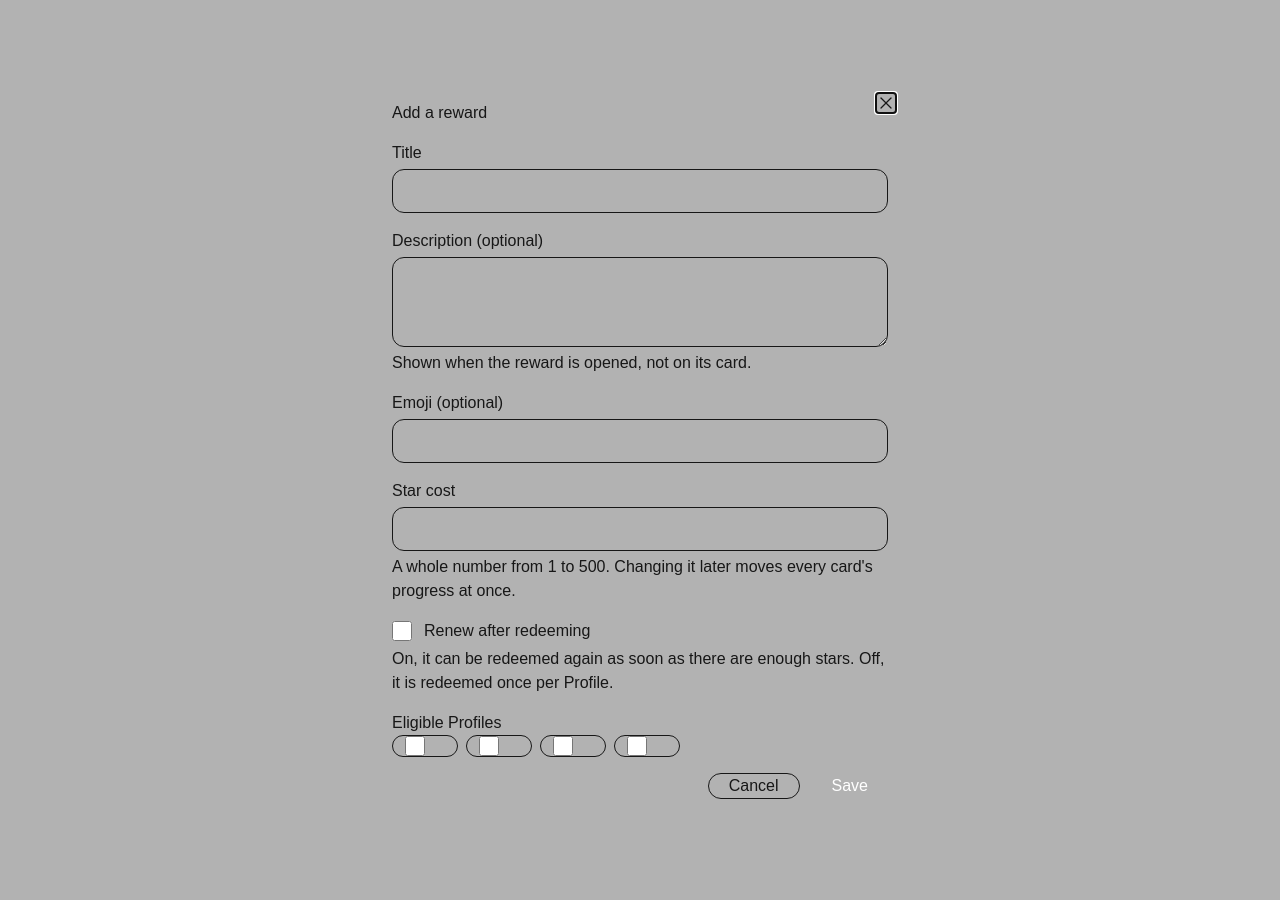
Test: RewardForm › refusals land against their field and keep the rest (FR-415, FR-416) › refuses a reward with no eligible Profile, on the picker itself (FR-415)
Step 1. Type "Bake cookies" into the field labelled "Title" → (640, 191), box [392,169,888,213]
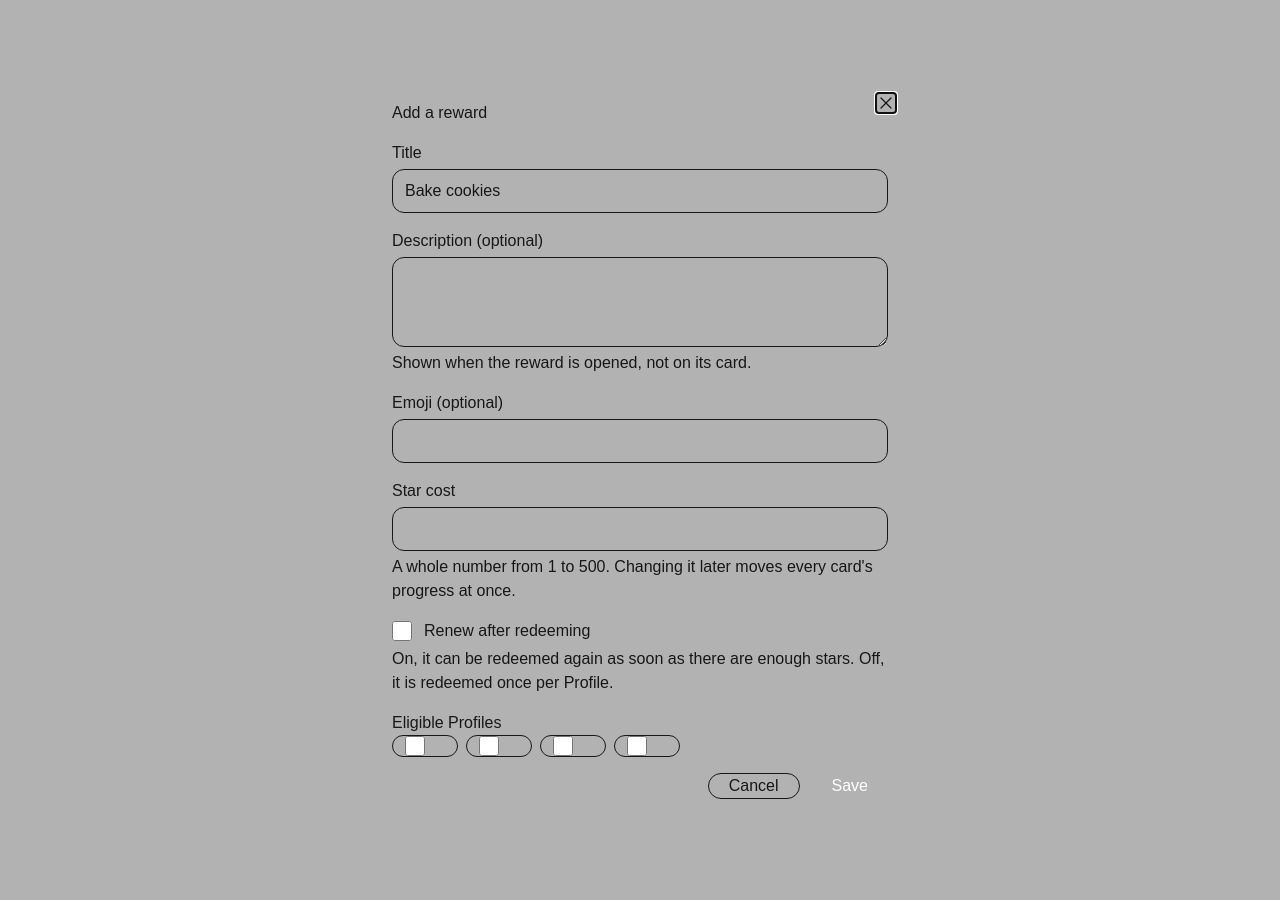
Step 2. Type "20" into the number field labelled "Star cost" → (640, 529), box [392,507,888,551]
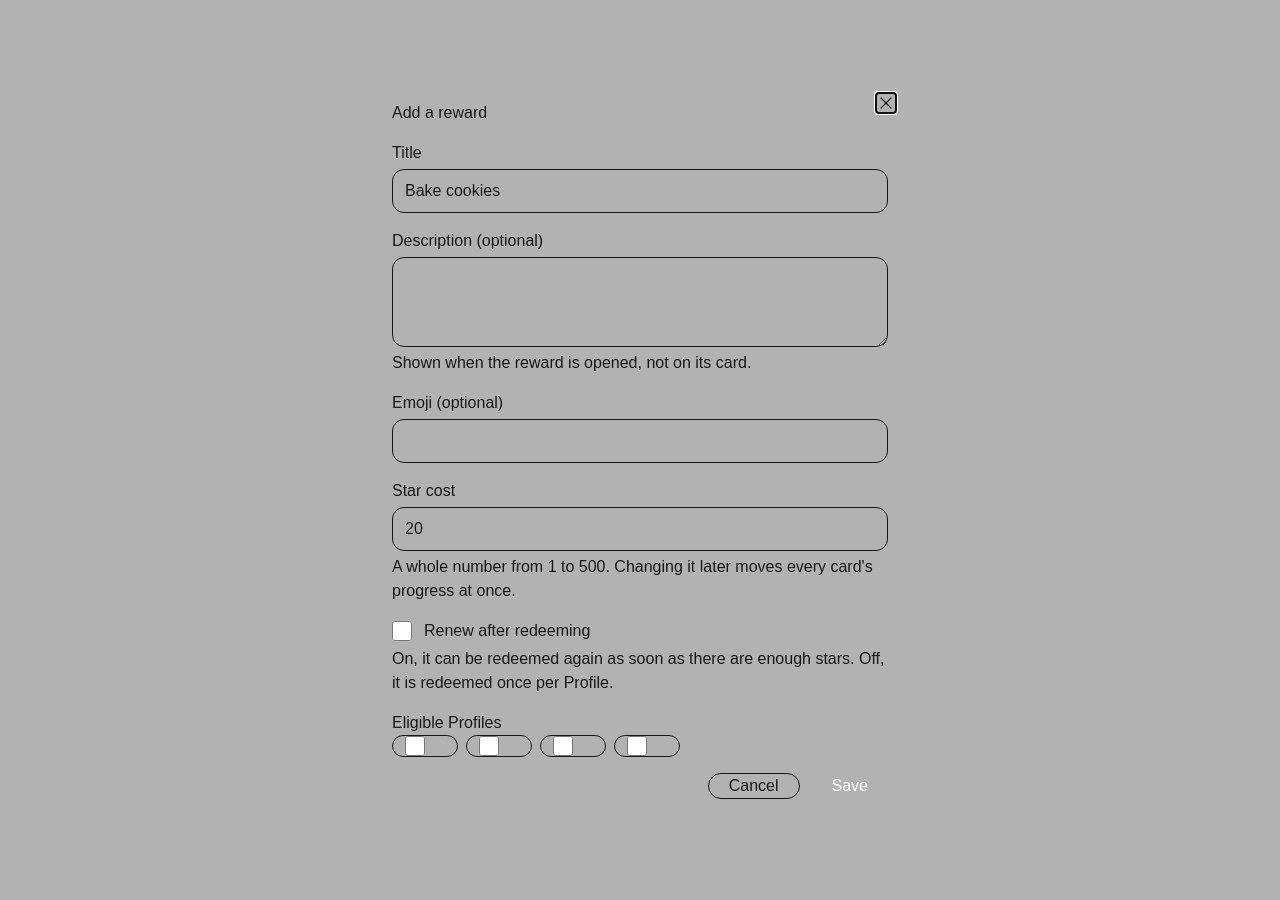
Step 3. Click the button "Save" → (850, 786), box [812,773,888,799]
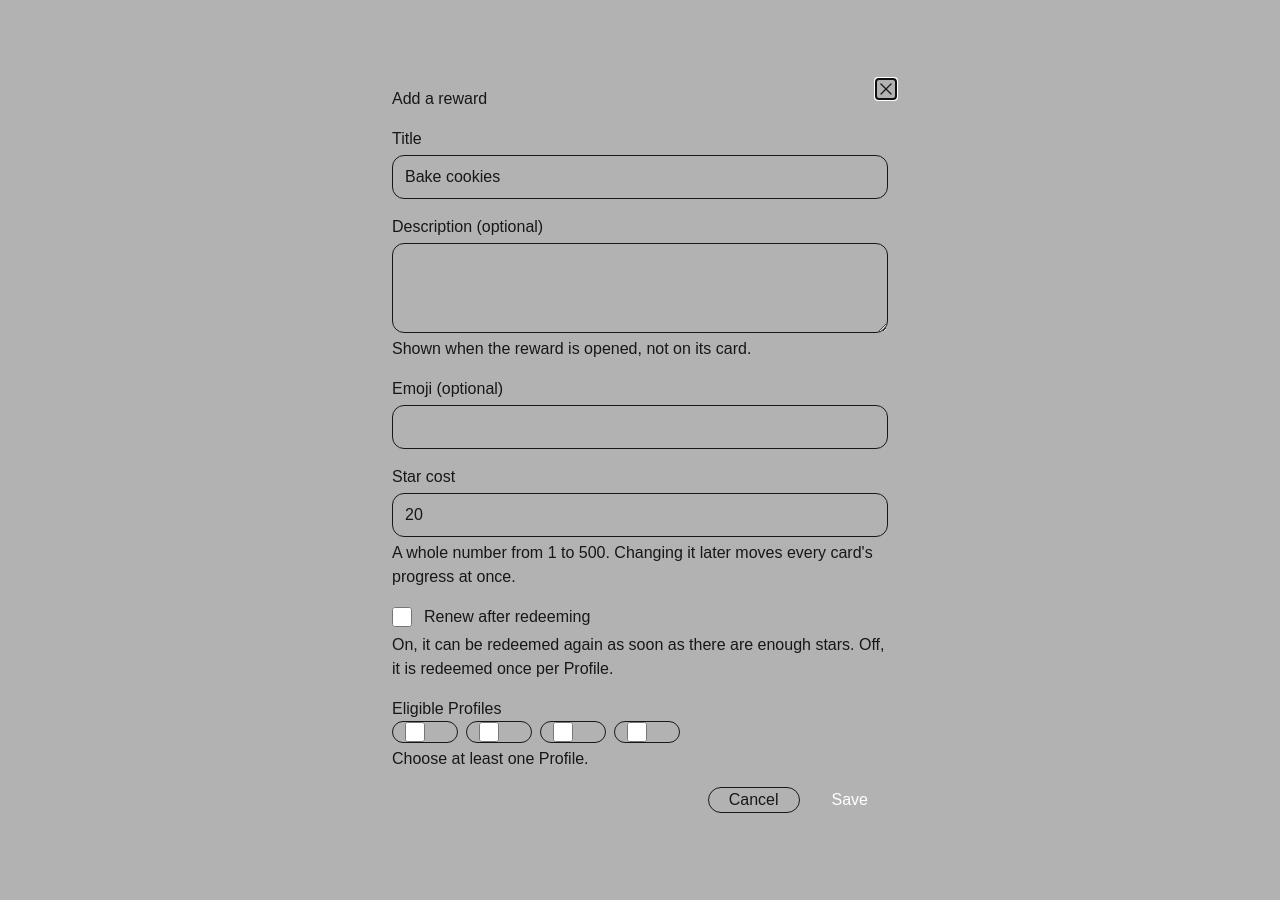
Result: the message reads "Choose at least one Profile." at [392,750,589,767]
